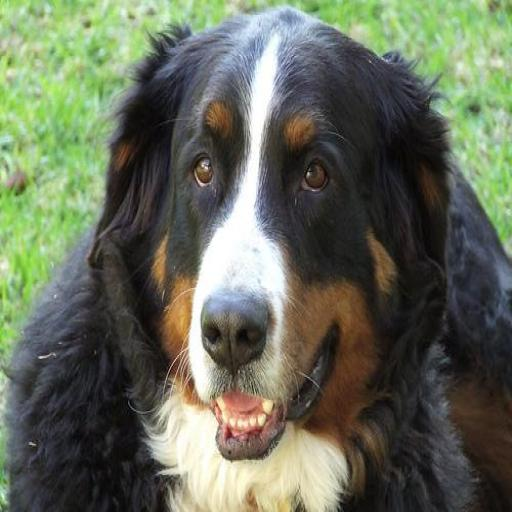dog_face: (128, 31, 423, 428)
